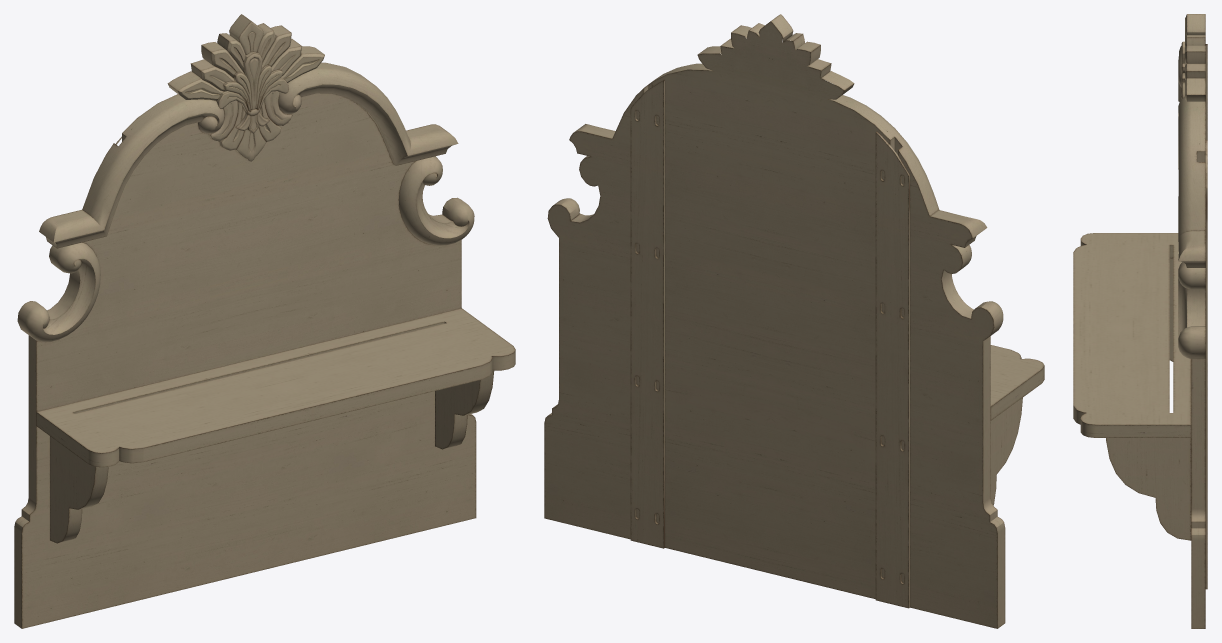
Rendered from example75.glb.
3 views of the same model, side by side, from view 1: azimuth 30°, elevation 25°; view 2: azimuth 150°, elevation 25°; view 3: azimuth 270°, elevation 25° (orthographic). The views are drawn at different scales.
Parts seen in each view (by area): view 1: HMJ0.paint; view 2: HMJ0.paint; view 3: HMJ0.paint.
Part boxes in pixels (<box>): HMJ0.paint: <box>14,14,515,628</box>; HMJ0.paint: <box>544,14,1044,628</box>; HMJ0.paint: <box>1073,14,1207,628</box>.
Bounding box in the file's own units: 0.6 × 0.6989 × 0.1661.
Materials: 1 (1 with a texture image).
